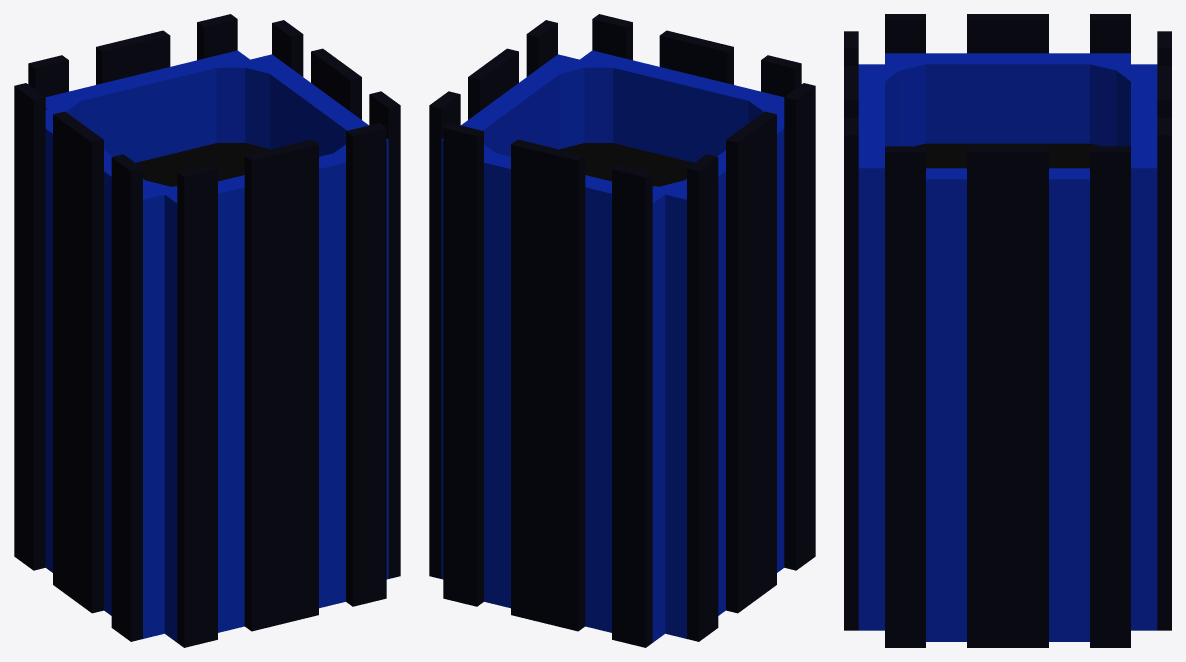
The model's file is Bin.FBX.
3 renders of one model, left to right at view 1: azimuth 30°, elevation 25°; view 2: azimuth 150°, elevation 25°; view 3: azimuth 270°, elevation 25°, orthographic. The views are drawn at different scales.
Visible parts, largest first — view 1: Bin; view 2: Bin; view 3: Bin.
Boxes of the visible parts, x1=… form: Bin: x1=14, y1=14, x2=400, y2=647; Bin: x1=429, y1=14, x2=815, y2=647; Bin: x1=844, y1=14, x2=1171, y2=647.
Bounding box in the file's own units: 0.45 × 0.75 × 0.45.
